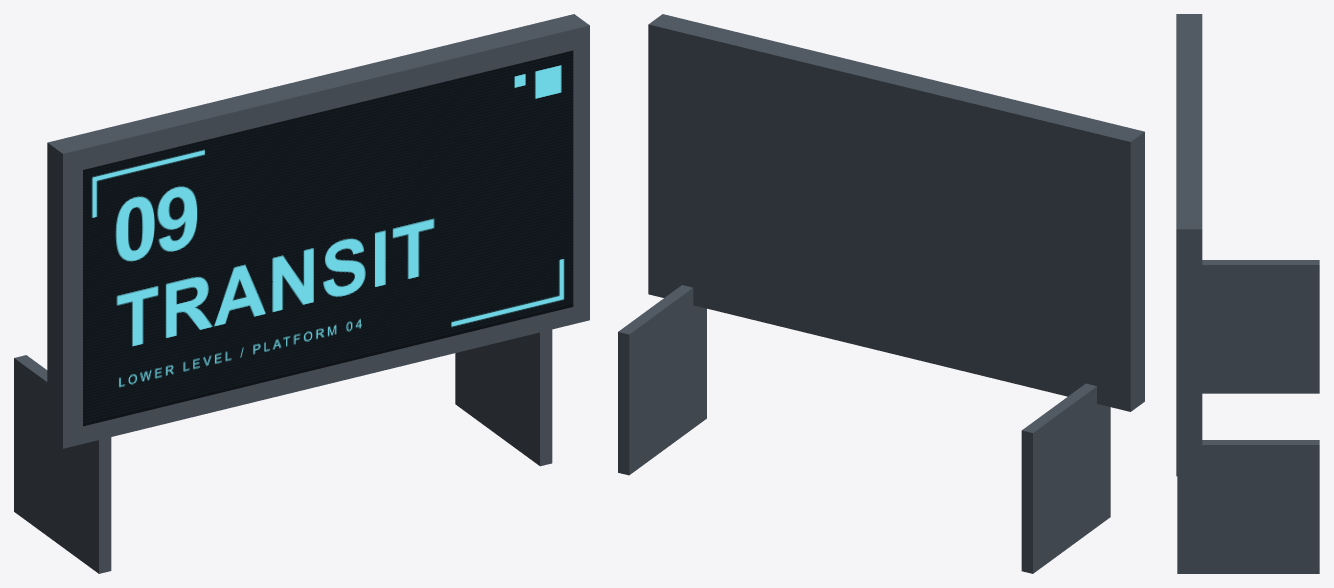
File: sign-transit.glb
The picture shows the model from 3 angles, left to right: view 1: azimuth 30°, elevation 25°; view 2: azimuth 150°, elevation 25°; view 3: azimuth 270°, elevation 25°; orthographic projection. The views are drawn at different scales.
Parts seen in each view (by area): view 1: sign-transit; view 2: sign-transit; view 3: sign-transit.
Boxes of the visible parts, x1,y1,x2,y2 form: sign-transit: (14, 14, 589, 573); sign-transit: (618, 14, 1144, 573); sign-transit: (1176, 14, 1319, 573).
Size of the model in its own units: 4.3 by 3.35 by 1.24.
Materials: 2 (1 with a texture image).
